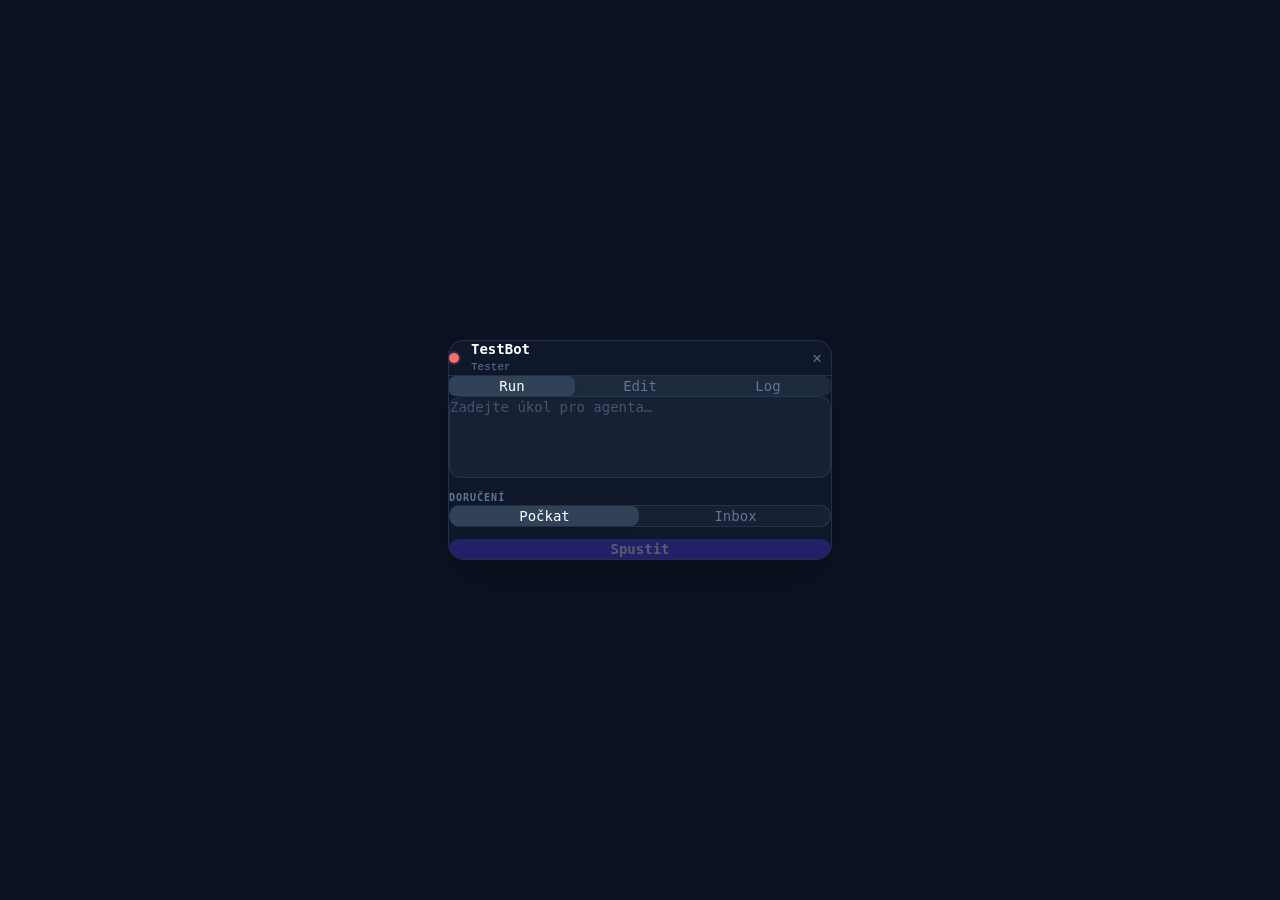
AgentPanel tabs › switches back to Run mode when Run tab is clicked
This screenshot has width=1280, height=900.
Step 1. Click the button with test id "tab-edit" → (640, 386), box 577,376 -> 703,396
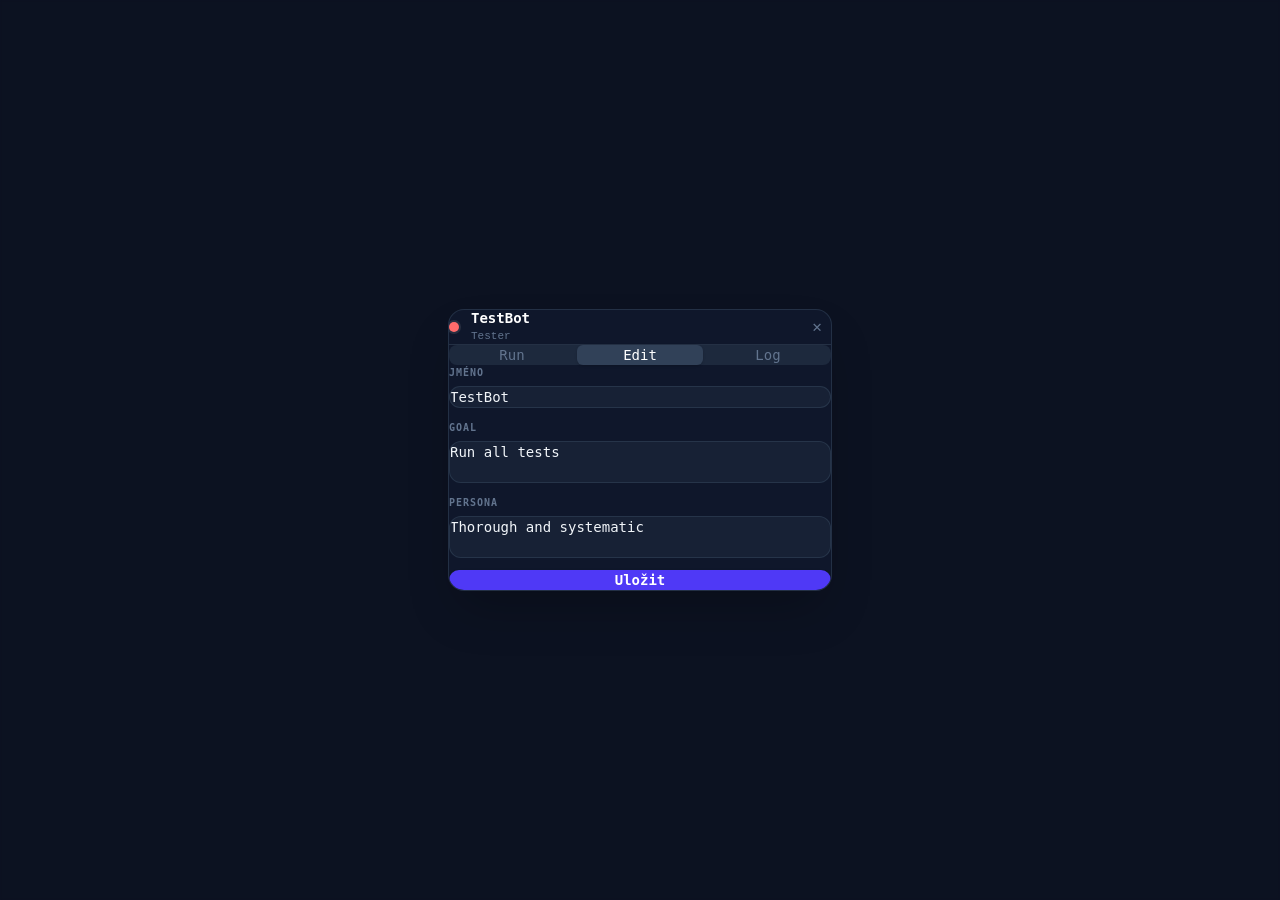
Step 2. Click the button with test id "tab-run" → (512, 355), box 449,345 -> 575,365
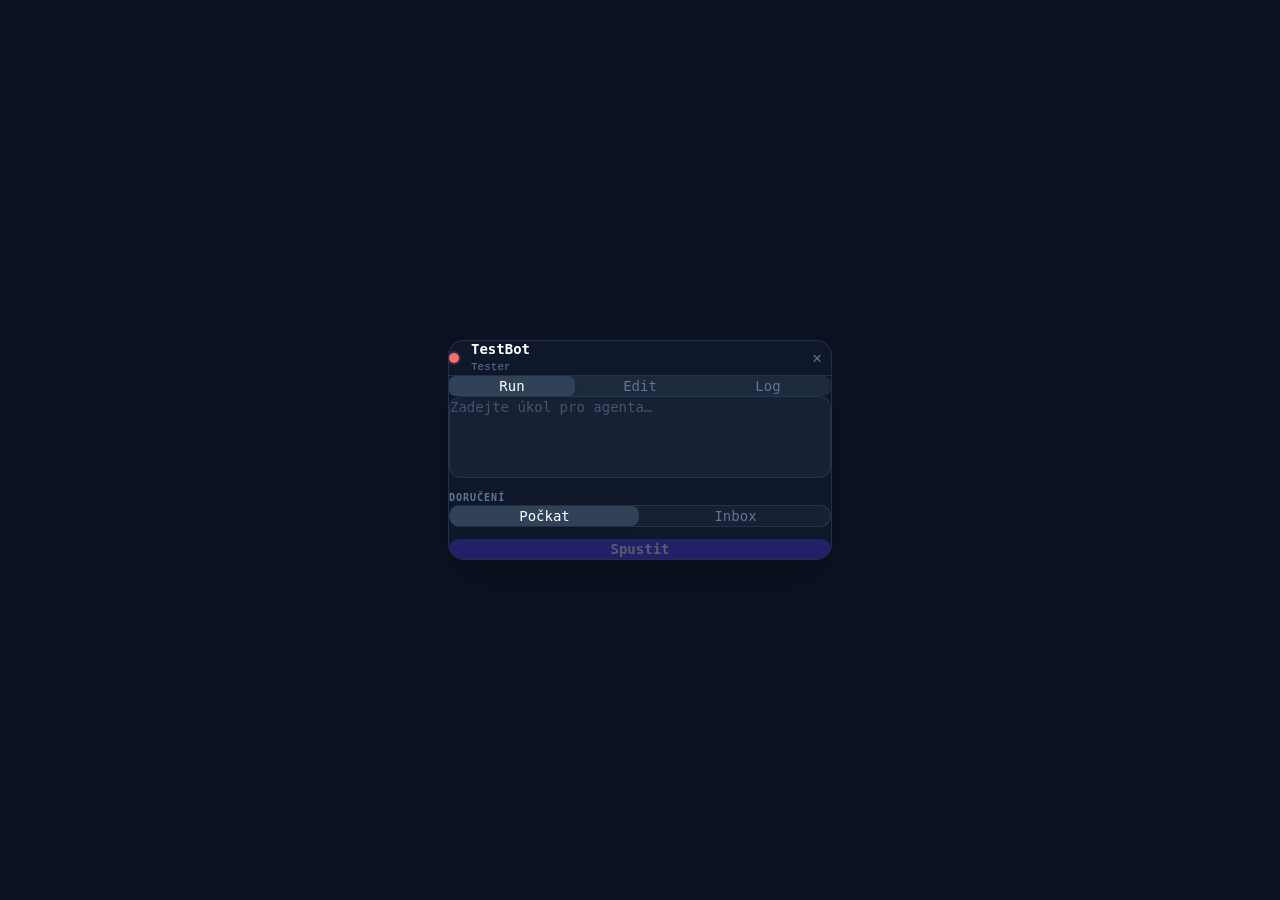
Expected: the text box with test id "run-task-input" is shown, 449,396 -> 831,478
